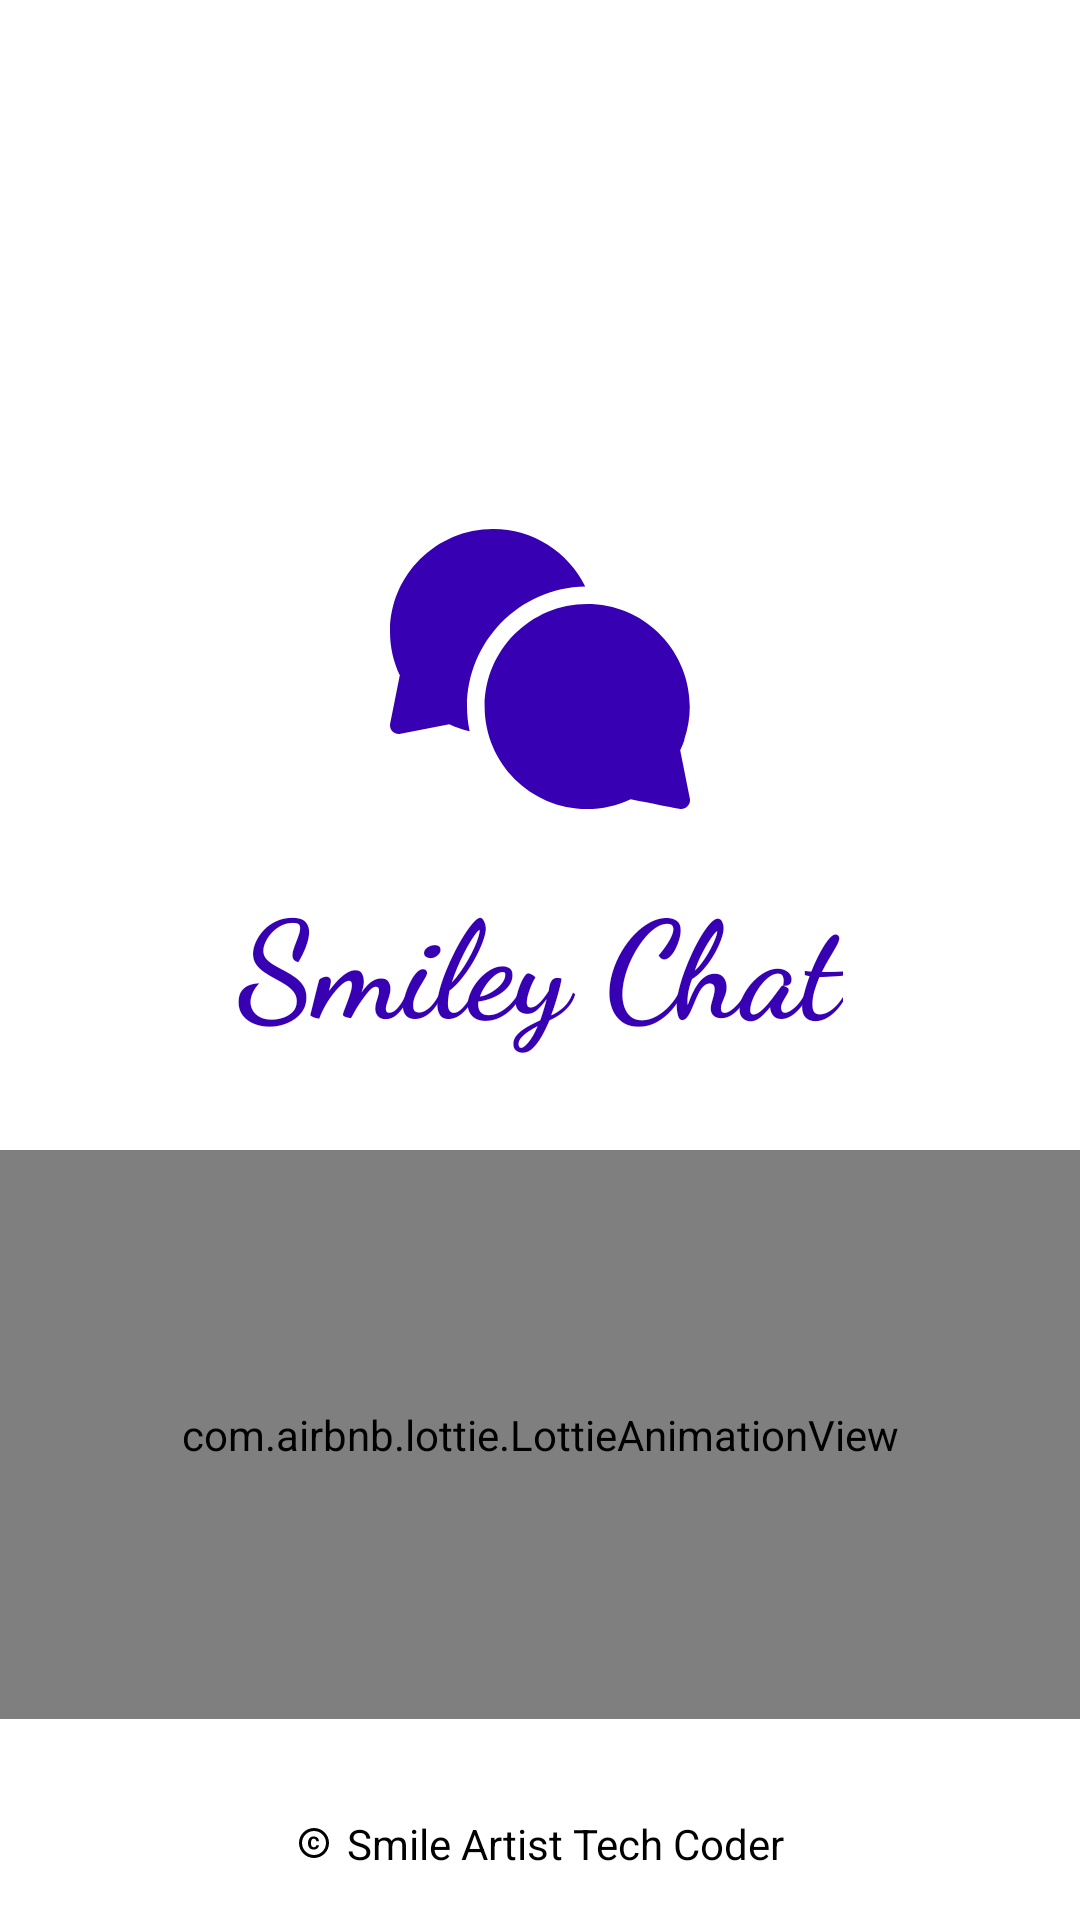

Where to tap for icons on this 1080px×1920px app screen, as [x,y]:
chat medium: [540,669]
